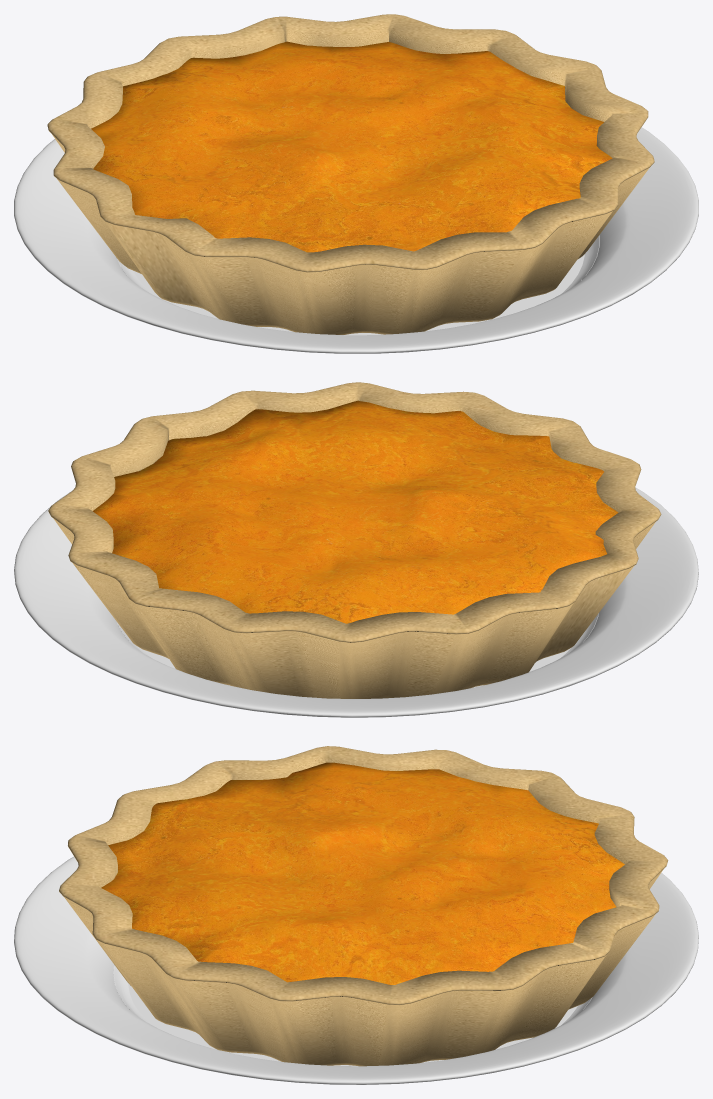
Rendered from pie.fbx.
3 renders of one model, top to bottom at view 1: azimuth 30°, elevation 25°; view 2: azimuth 150°, elevation 25°; view 3: azimuth 270°, elevation 25°, orthographic.
Visible parts, largest first — view 1: jam, tarte, plate; view 2: jam, tarte, plate; view 3: jam, tarte, plate.
Part boxes in pixels (left/top/right/bottom): jam: left=91, top=41, right=612, bottom=252; tarte: left=47, top=14, right=654, bottom=334; plate: left=14, top=127, right=698, bottom=353; jam: left=93, top=400, right=618, bottom=623; tarte: left=48, top=382, right=661, bottom=698; plate: left=14, top=487, right=698, bottom=717; jam: left=101, top=762, right=624, bottom=984; tarte: left=59, top=746, right=668, bottom=1066; plate: left=14, top=856, right=698, bottom=1084.
Bounding box in the file's own units: 32.27 × 6.66 × 32.27.
3 materials, 2 textured.
